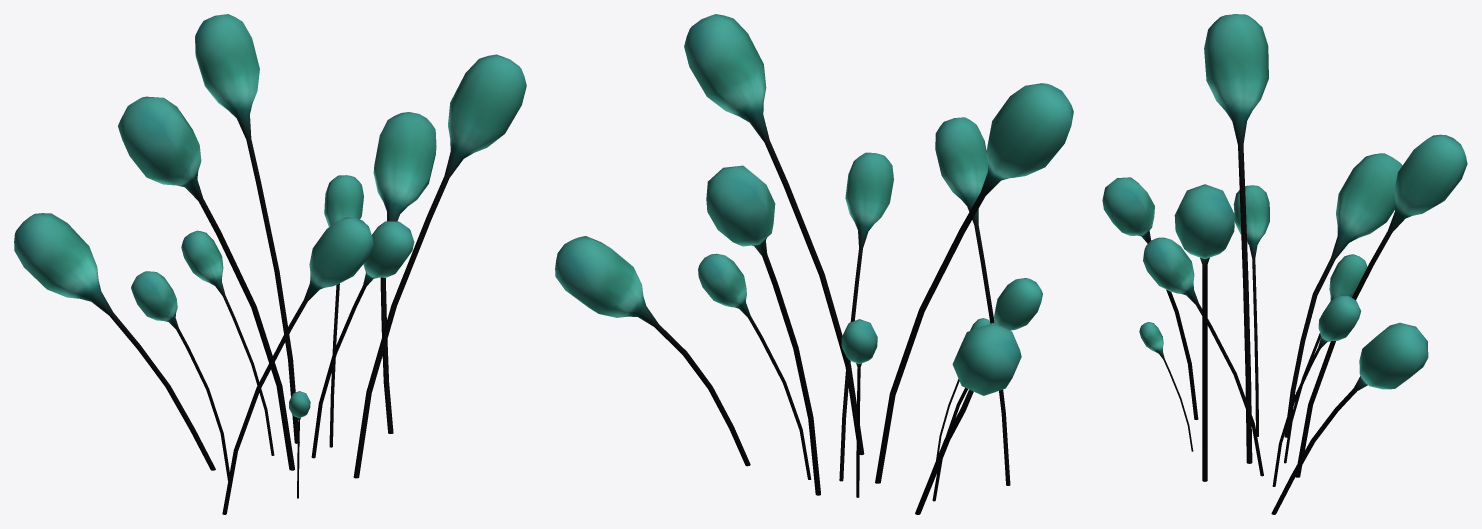
The model's file is Bulb_12.fbx.
The picture shows the model from 3 angles, left to right: view 1: azimuth 30°, elevation 25°; view 2: azimuth 150°, elevation 25°; view 3: azimuth 270°, elevation 25°; orthographic projection. The views are drawn at different scales.
Visible parts, largest first — view 1: Cube; view 2: Cube; view 3: Cube.
Part boxes in pixels (x1=…): Cube: x1=14, y1=14, x2=526, y2=514; Cube: x1=555, y1=14, x2=1073, y2=514; Cube: x1=1102, y1=14, x2=1467, y2=514.
Size of the model in its own units: 176 by 162 by 141.
1 material, 1 textured.
